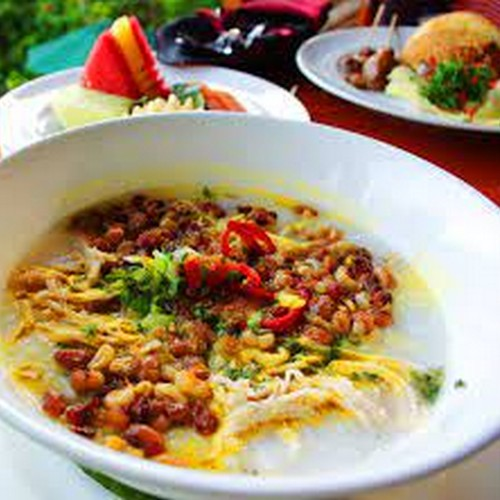bubur mengguh: (32, 158, 426, 453)
